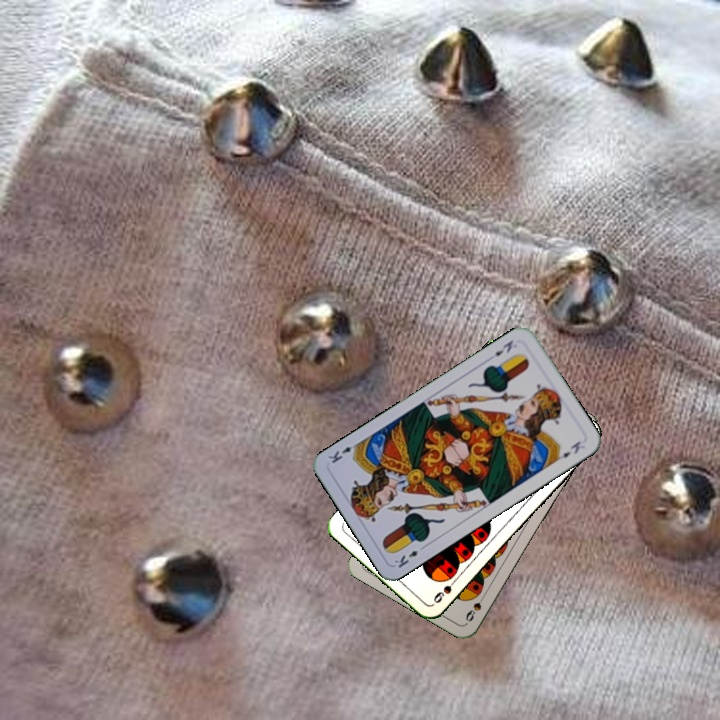EK: (390, 541, 428, 570), (490, 336, 516, 359)
S9: (429, 573, 461, 606), (461, 588, 489, 624)
